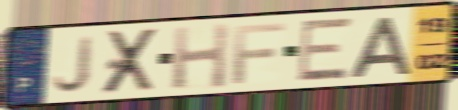A: (347, 15, 413, 79)
E: (295, 15, 356, 84)
F: (231, 21, 288, 86)
H: (170, 20, 231, 91)
J: (50, 34, 97, 95)
X: (99, 25, 163, 97)
